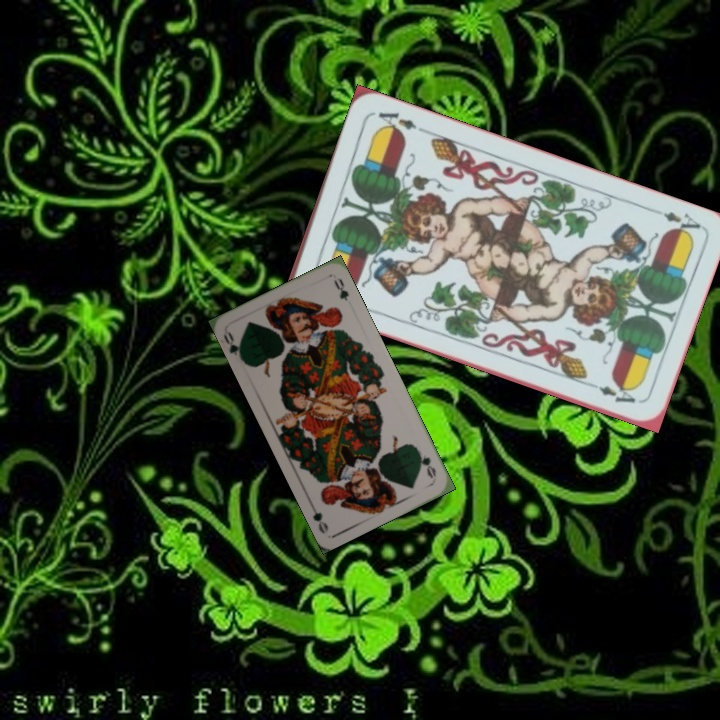EA: (646, 204, 704, 239)
GO: (219, 328, 247, 364), (412, 445, 439, 481)
